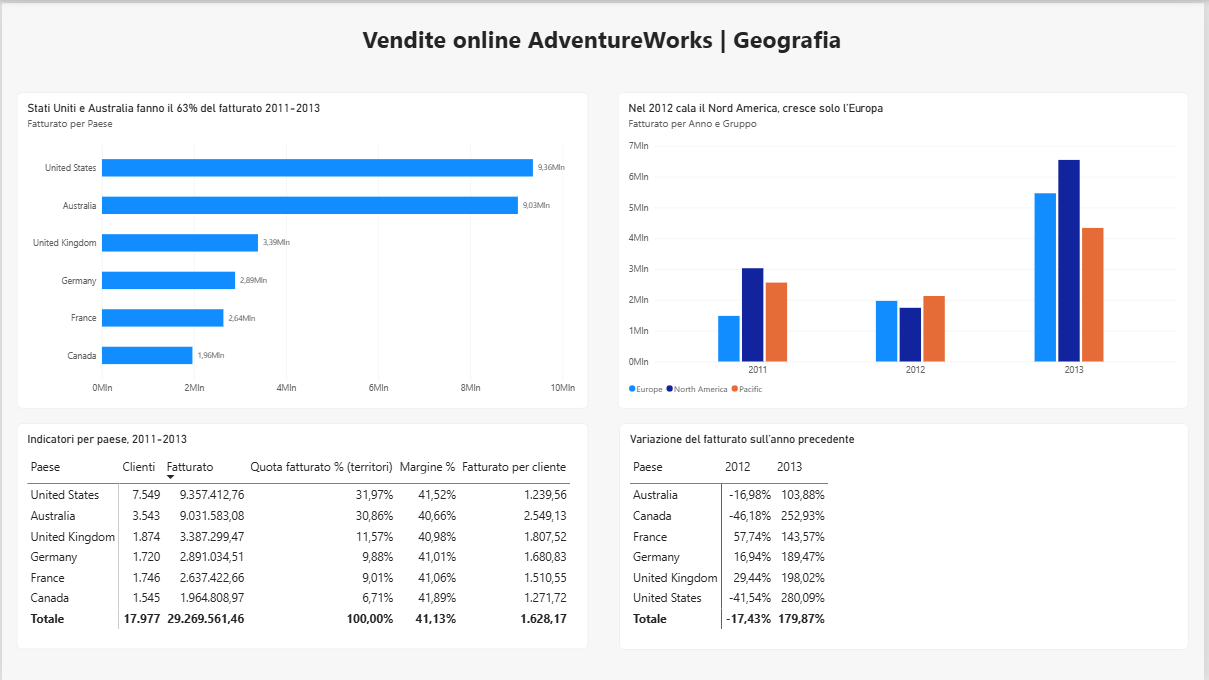

This screenshot's page, from the dashboard's own definition file:
{"tool":"powerbi","page":{"name":"Geografia","canvas":[1920,1080],"ordinal":3},"visuals":[{"type":"textbox","box":[10,30,1896.7,66.7],"z":0},{"type":"clusteredBarChart","title":"Stati Uniti e Australia fanno il 63% del fatturato 2011-2013","fields":{"Category":["Territori.Paese"],"Y":["_Misure.Fatturato"]},"box":[24,144,912,504],"z":1000},{"type":"clusteredColumnChart","title":"Nel 2012 cala il Nord America, cresce solo l’Europa","fields":{"Category":["Calendario.Anno"],"Series":["Territori.Gruppo"],"Y":["_Misure.Fatturato"]},"box":[984,144,912,504],"z":2000},{"type":"pivotTable","title":"Indicatori per paese, 2011-2013","fields":{"Rows":["Territori.Paese"],"Values":["_Misure.Clienti","_Misure.Fatturato","_Misure.Quota fatturato % (territori)","_Misure.Margine %","_Misure.Fatturato per cliente"]},"box":[24,672,912,360],"z":3000},{"type":"pivotTable","title":"Variazione del fatturato sull’anno precedente","fields":{"Columns":["Calendario.Anno"],"Rows":["Territori.Paese"],"Values":["_Misure.Var. fatturato %"]},"box":[985.1,671.7,909.7,360.6],"z":4000}]}

Visuals, with their boxes in screenshot pixels (x1, y1, x2, y2), scaled from the page's 1920x1080 canvas onto the 1209x680 screenshot:
textbox: 6, 19, 1201, 61
"Stati Uniti e Australia fanno il 63% del fatturato 2011-2013" clusteredBarChart: 15, 91, 589, 408
"Nel 2012 cala il Nord America, cresce solo l’Europa" clusteredColumnChart: 620, 91, 1194, 408
"Indicatori per paese, 2011-2013" pivotTable: 15, 423, 589, 650
"Variazione del fatturato sull’anno precedente" pivotTable: 620, 423, 1193, 650
